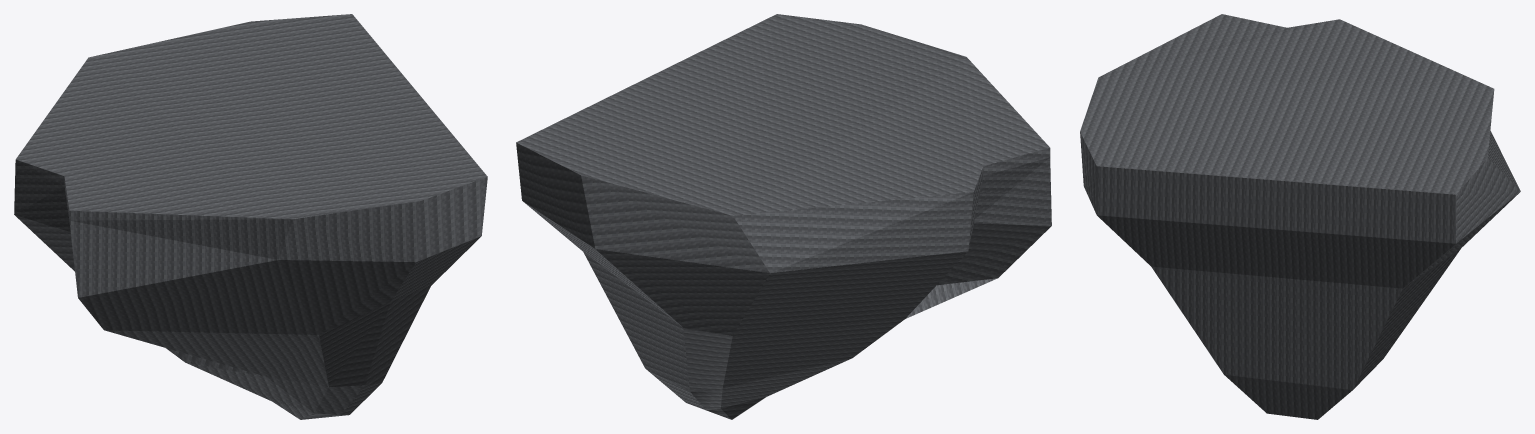
Rendered from Stab.fbx.
3 renders of one model, left to right at view 1: azimuth 30°, elevation 25°; view 2: azimuth 150°, elevation 25°; view 3: azimuth 270°, elevation 25°, orthographic. The views are drawn at different scales.
Parts seen in each view (by area): view 1: Stab; view 2: Stab; view 3: Stab.
Boxes of the visible parts, <box> form: Stab: <box>14,14,487,419</box>; Stab: <box>516,14,1051,419</box>; Stab: <box>1080,14,1520,419</box>.
Bounding box in the file's own units: 4597 × 3351 × 4740.
